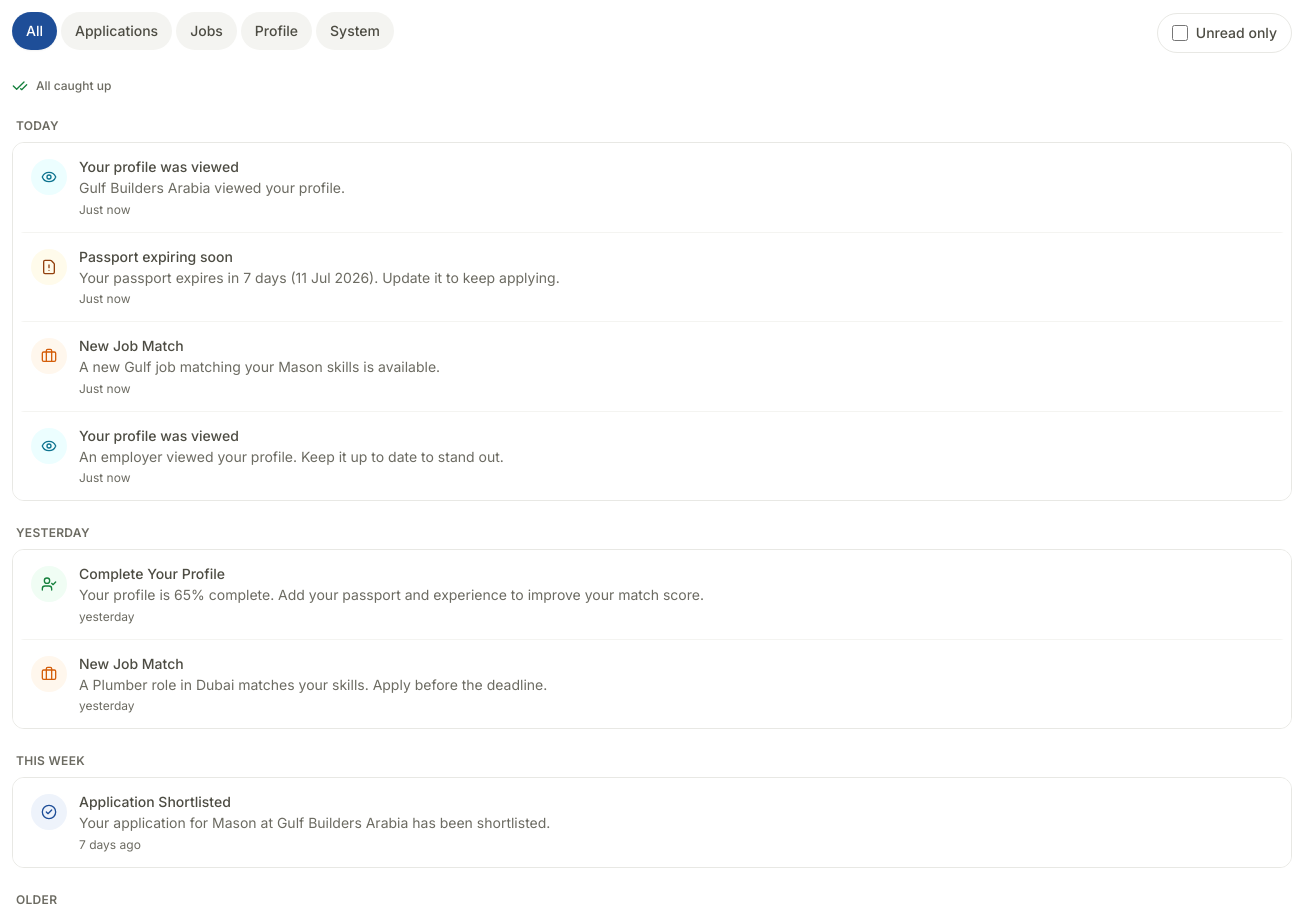
Test: NotificationList › shows empty state for unread-only filter when all are read
Switch to unread-only
Click the checkbox labelled "Unread only": (1180, 33) [1172,25,1188,41]
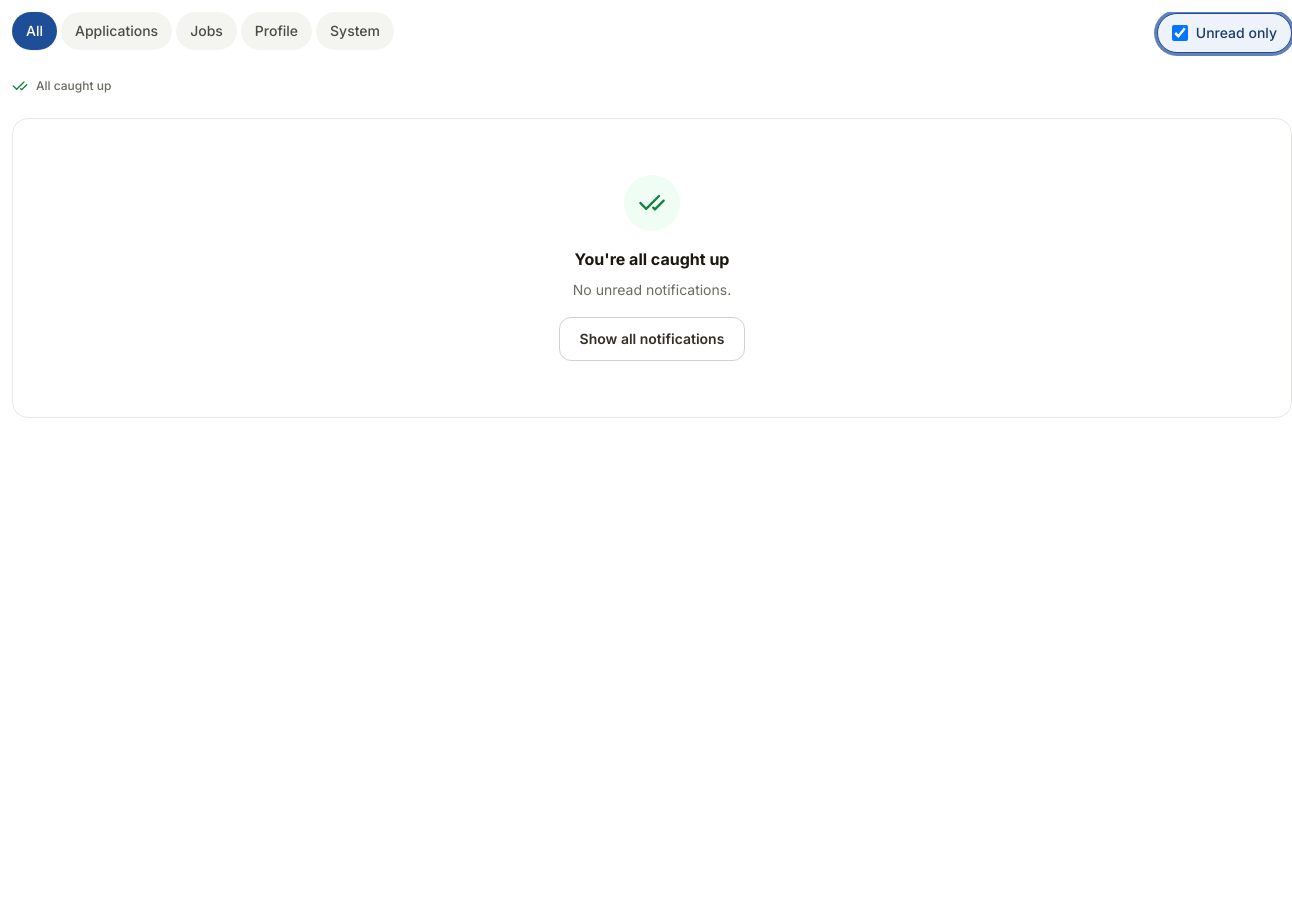
Expected: the text "No unread notifications." is shown, [573,279,731,301]
